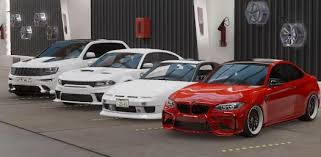car: (162, 57, 321, 138), (53, 46, 182, 103), (100, 59, 222, 117), (8, 38, 128, 96)
